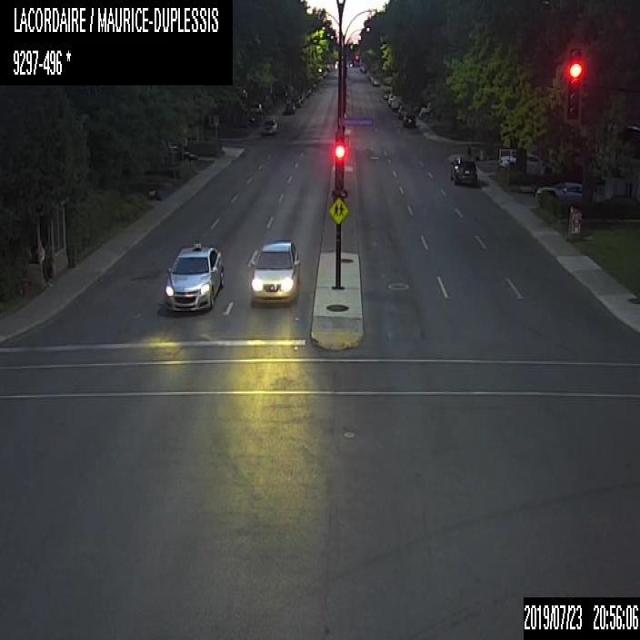pedestrian: (35, 240, 47, 280)
vehicle: (162, 240, 223, 314), (247, 237, 301, 304), (537, 176, 594, 202), (499, 151, 549, 175), (446, 152, 478, 185), (262, 112, 276, 135), (284, 98, 298, 112), (402, 113, 415, 128), (390, 96, 402, 110), (396, 104, 408, 118), (386, 94, 396, 105), (372, 76, 379, 85)
